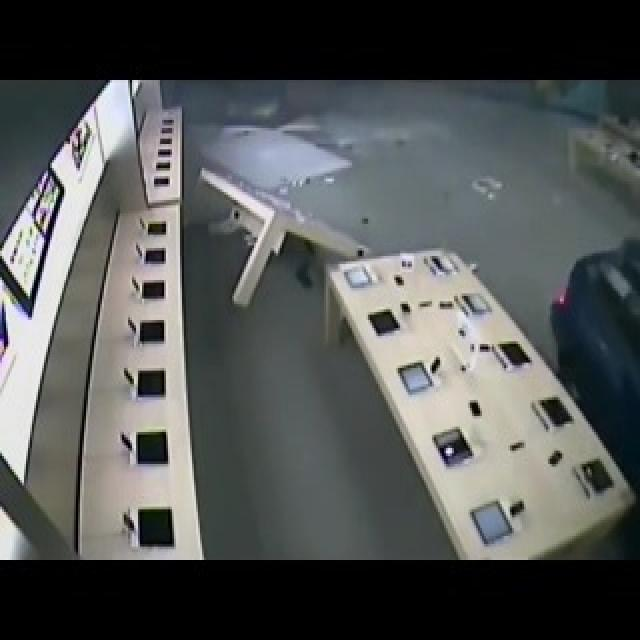burglary: (542, 224, 640, 438)
